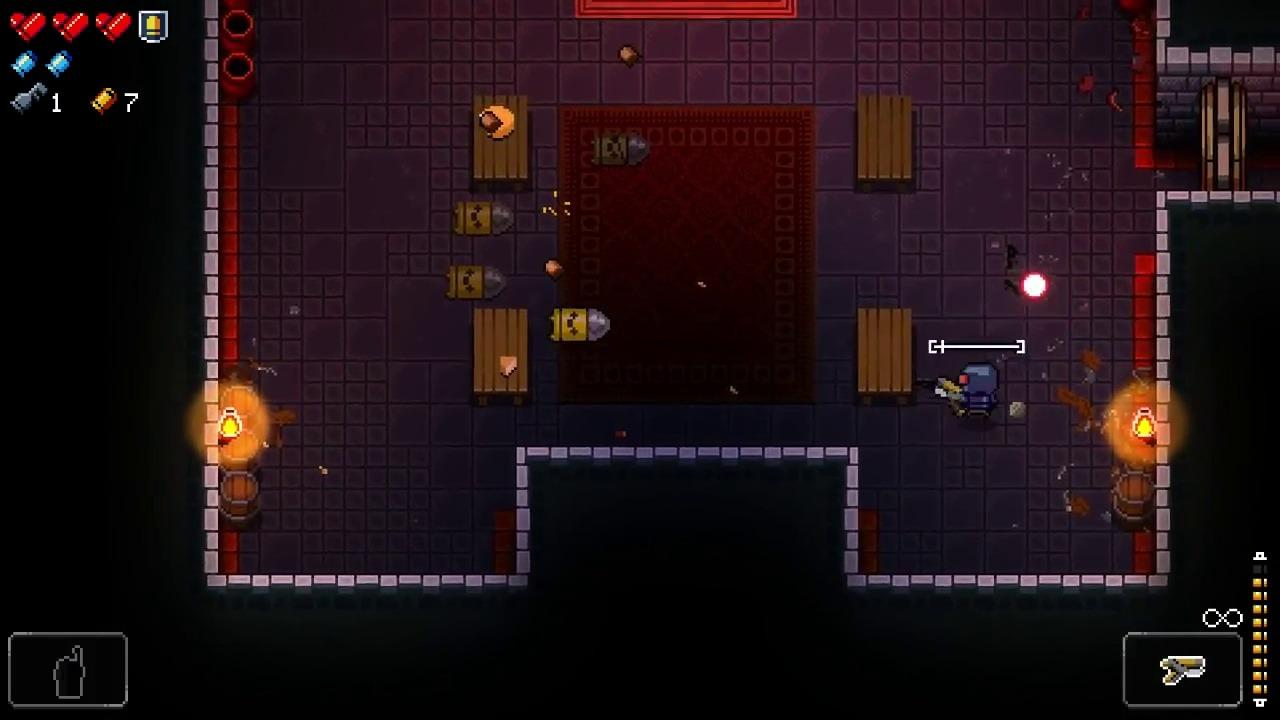bullet: (1021, 273, 1050, 298)
dead_bullet_kin: (455, 201, 517, 236), (551, 307, 613, 341), (448, 264, 508, 299)
dead_veteran_bullet_kin: (591, 134, 652, 166)
locked_door: (1201, 77, 1247, 191)
player: (958, 363, 1000, 423)
table: (859, 95, 912, 193), (474, 95, 528, 191), (474, 309, 528, 405), (859, 310, 912, 405)
